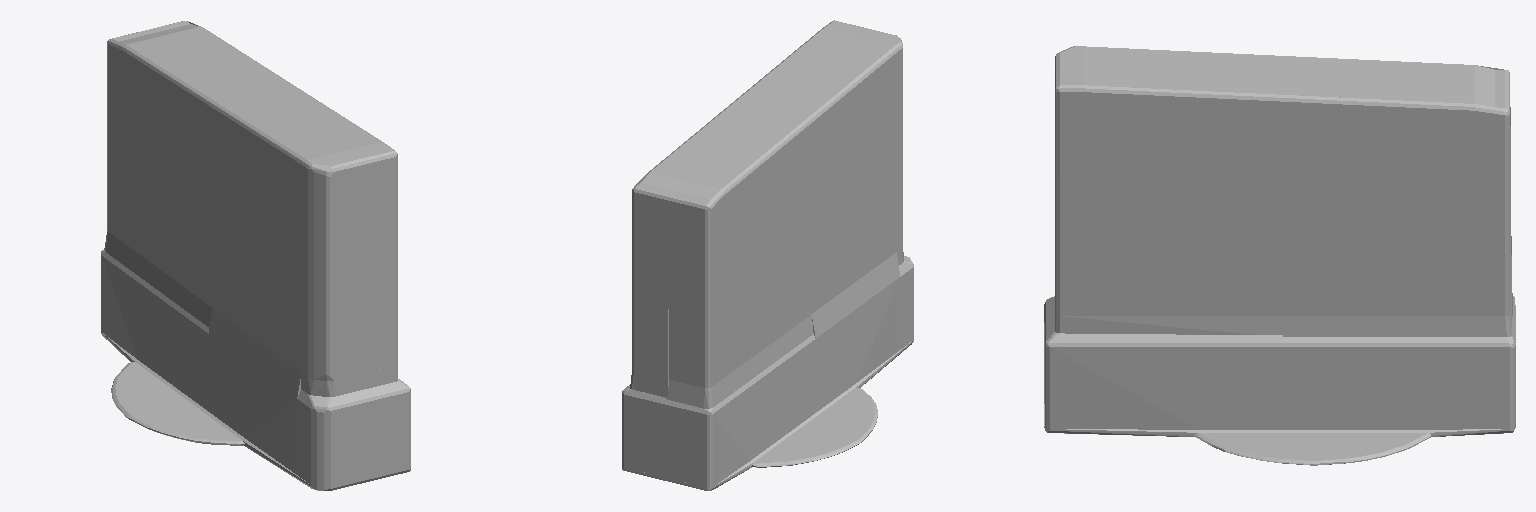
The robot description file, URDF, robot "root":
<?xml version="1.0"?>
<robot name="root">
  <link name="base_link">
    <visual>
      <origin xyz="0 0 0" rpy="0 0 0" />
      <geometry>
        <mesh filename="../meshes/unidex_sem_VideoGameConsole-2cd14a3a14c7b060eedfca8b846d3b01_006.obj" scale="1.0000E+00 1.0000E+00 1.0000E+00" />
      </geometry>
      <material name="">
        <color rgba="7.50E-01 7.50E-01 7.50E-01 1" />
      </material>
    </visual>
    <collision>
      <origin xyz="0 0 0" rpy="0 0 0" />
      <geometry>
        <mesh filename="../meshes/unidex_sem_VideoGameConsole-2cd14a3a14c7b060eedfca8b846d3b01_006.obj" scale="1.0000E+00 1.0000E+00 1.0000E+00" />
      </geometry>
    </collision>
  </link>
</robot>

--- Facts derived from the render (not from the file) ---
3 views of the same robot in one strip: view 1: azimuth 30°, elevation 25°; view 2: azimuth 150°, elevation 25°; view 3: azimuth 270°, elevation 25° (orthographic).
Robot: root — 1 links, 0 joints (none); root link base_link; default pose: all joints at 0.
Links seen in each view (by area): view 1: base_link; view 2: base_link; view 3: base_link.
Boxes of the visible links, x1,y1,x2,y2 form: base_link: [101, 21, 410, 490]; base_link: [622, 20, 913, 490]; base_link: [1044, 46, 1515, 465].
Bounding box of the posed robot: 0.0527 × 0.0906 × 0.0729 m (x, y, z).
Meshes: 1 distinct files referenced, 1 mesh visuals loaded (1 OBJ).
